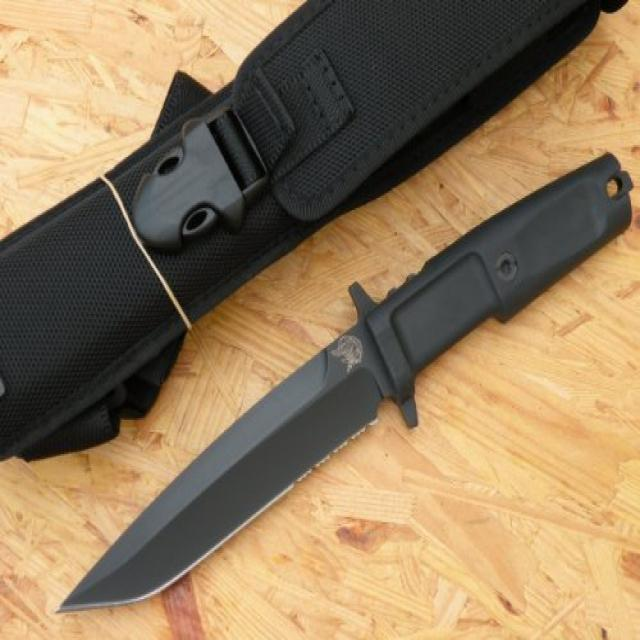knife: (50, 162, 639, 612)
